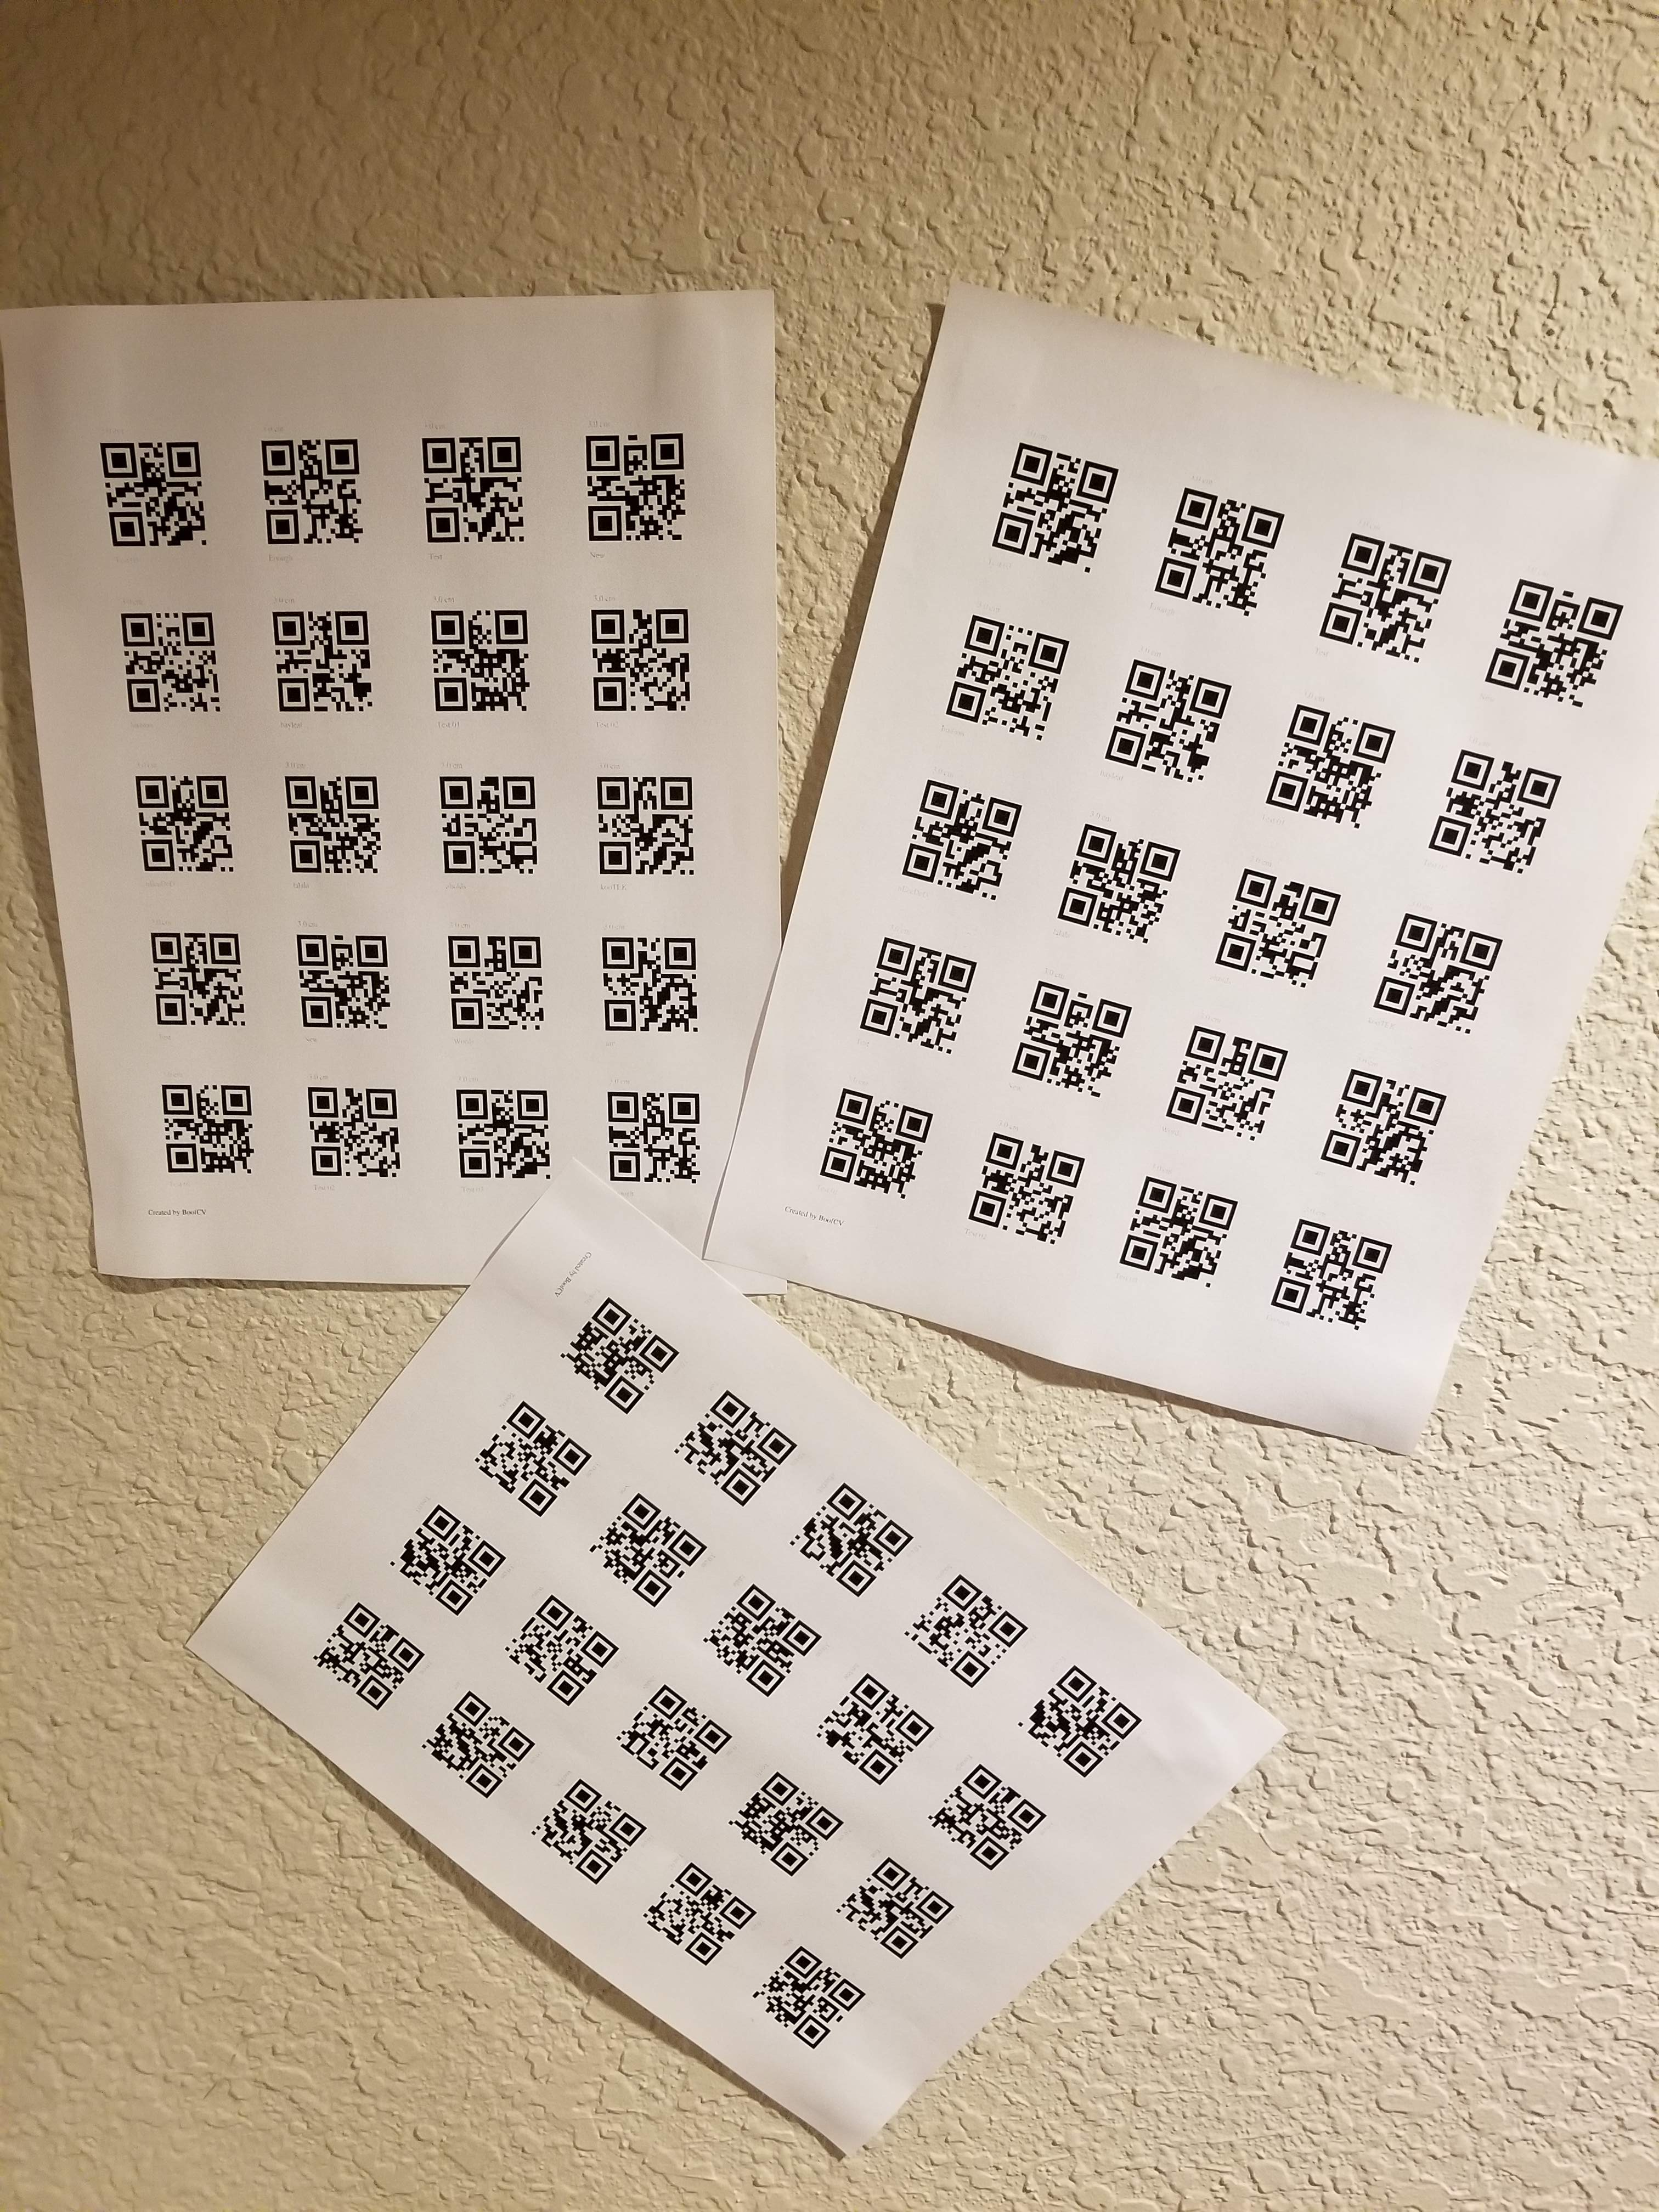QR_CODE: (1469, 564, 1638, 723), (972, 411, 1124, 587), (1410, 735, 1586, 887), (558, 740, 718, 894), (1138, 465, 1290, 625), (1302, 514, 1448, 676), (1358, 897, 1513, 1049), (1082, 653, 1241, 801), (1248, 697, 1403, 846), (1256, 1200, 1410, 1350), (925, 603, 1080, 751), (396, 413, 544, 564), (1190, 859, 1352, 996), (71, 420, 221, 568), (884, 765, 1040, 904), (1302, 1057, 1459, 1197), (838, 925, 992, 1062), (992, 968, 1145, 1106), (1103, 1157, 1243, 1306), (244, 587, 383, 735), (800, 1071, 939, 1217), (1143, 1014, 1291, 1151), (1042, 817, 1188, 954), (242, 418, 380, 563), (953, 1120, 1091, 1263), (460, 1386, 598, 1529), (376, 1487, 519, 1625), (573, 575, 706, 723), (267, 916, 411, 1050), (572, 408, 704, 554), (106, 758, 246, 895), (545, 1285, 685, 1423), (580, 1480, 720, 1618), (256, 761, 396, 897), (779, 1472, 922, 1604), (589, 913, 725, 1050), (103, 592, 237, 732), (666, 1379, 802, 1515), (1012, 1651, 1147, 1789), (420, 754, 552, 894), (697, 1568, 828, 1709), (411, 589, 544, 726), (896, 1562, 1033, 1695), (439, 1069, 565, 1212), (922, 1749, 1056, 1878), (416, 1677, 542, 1815), (434, 911, 558, 1050), (812, 1656, 939, 1791), (824, 1853, 976, 1965), (288, 1071, 416, 1202), (592, 1073, 718, 1207), (610, 1670, 737, 1801), (725, 1761, 859, 1883), (497, 1588, 624, 1716), (301, 1592, 429, 1719), (526, 1768, 653, 1895), (143, 1064, 272, 1190), (638, 1853, 770, 1975), (749, 1940, 884, 2060), (136, 909, 258, 1040)
